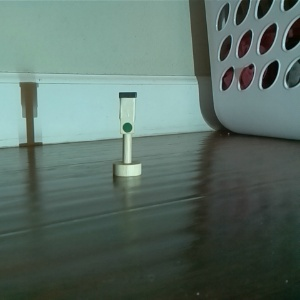traffic light green: (110, 89, 143, 179)
